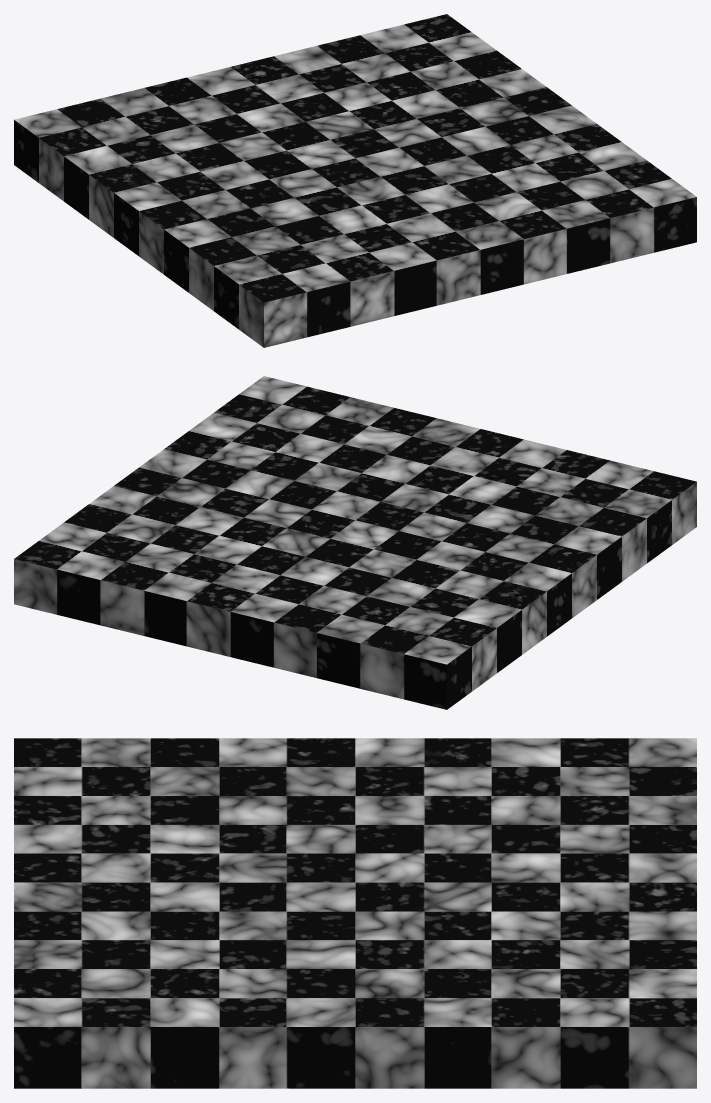
The model's file is floor.glb.
3 renders of one model, top to bottom at view 1: azimuth 30°, elevation 25°; view 2: azimuth 150°, elevation 25°; view 3: azimuth 270°, elevation 25°, orthographic. The views are drawn at different scales.
Parts seen in each view (by area): view 1: Cube; view 2: Cube; view 3: Cube.
Part boxes in pixels (x1,y1,x2,y2): Cube: [14, 14, 696, 347]; Cube: [14, 376, 696, 709]; Cube: [14, 738, 696, 1088].
Bounding box in the file's own units: 1000 × 100 × 1000.
1 material, 1 textured.
